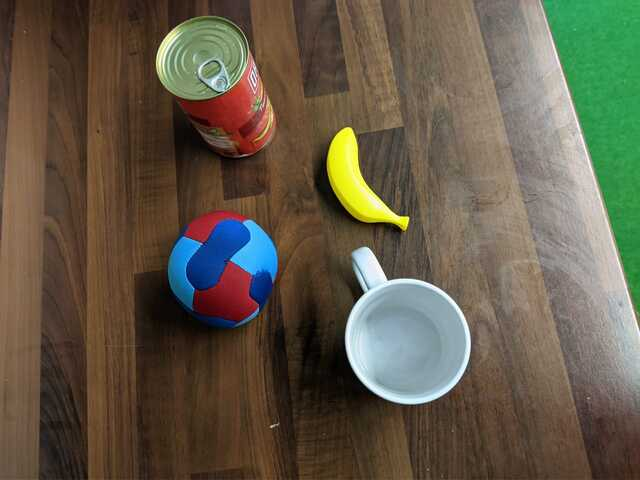005_tomato_soup_can: (152, 14, 278, 160)
011_banana: (326, 125, 410, 232)
025_mug: (343, 245, 473, 407)
057_racquetball: (166, 209, 278, 331)
